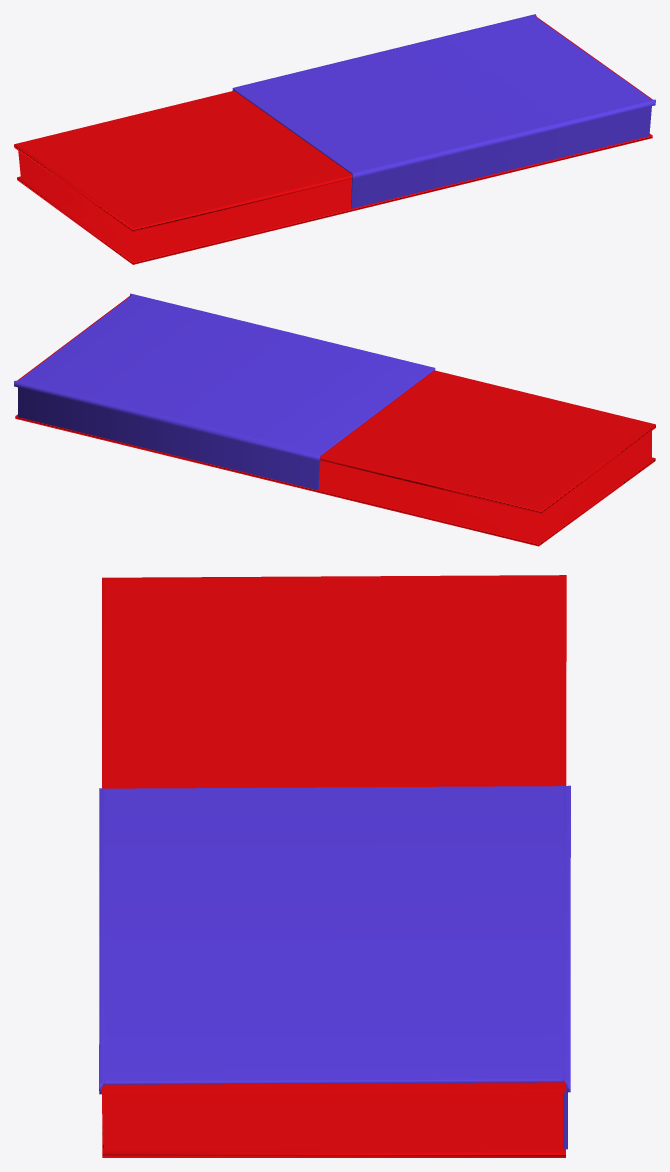
The model's file is matress.fbx.
The picture shows the model from 3 angles, top to bottom: view 1: azimuth 30°, elevation 25°; view 2: azimuth 150°, elevation 25°; view 3: azimuth 270°, elevation 25°; orthographic projection. The views are drawn at different scales.
Visible parts, largest first — view 1: Cube.001, Cube; view 2: Cube.001, Cube; view 3: Cube.001, Cube.
Boxes of the visible parts, bbox=[...] form: Cube.001: bbox=[232, 14, 655, 208]; Cube: bbox=[14, 16, 652, 264]; Cube.001: bbox=[14, 293, 435, 490]; Cube: bbox=[15, 296, 655, 546]; Cube.001: bbox=[99, 785, 570, 1149]; Cube: bbox=[101, 575, 566, 1157].
Bounding box in the file's own units: 631 × 44.03 × 245.
